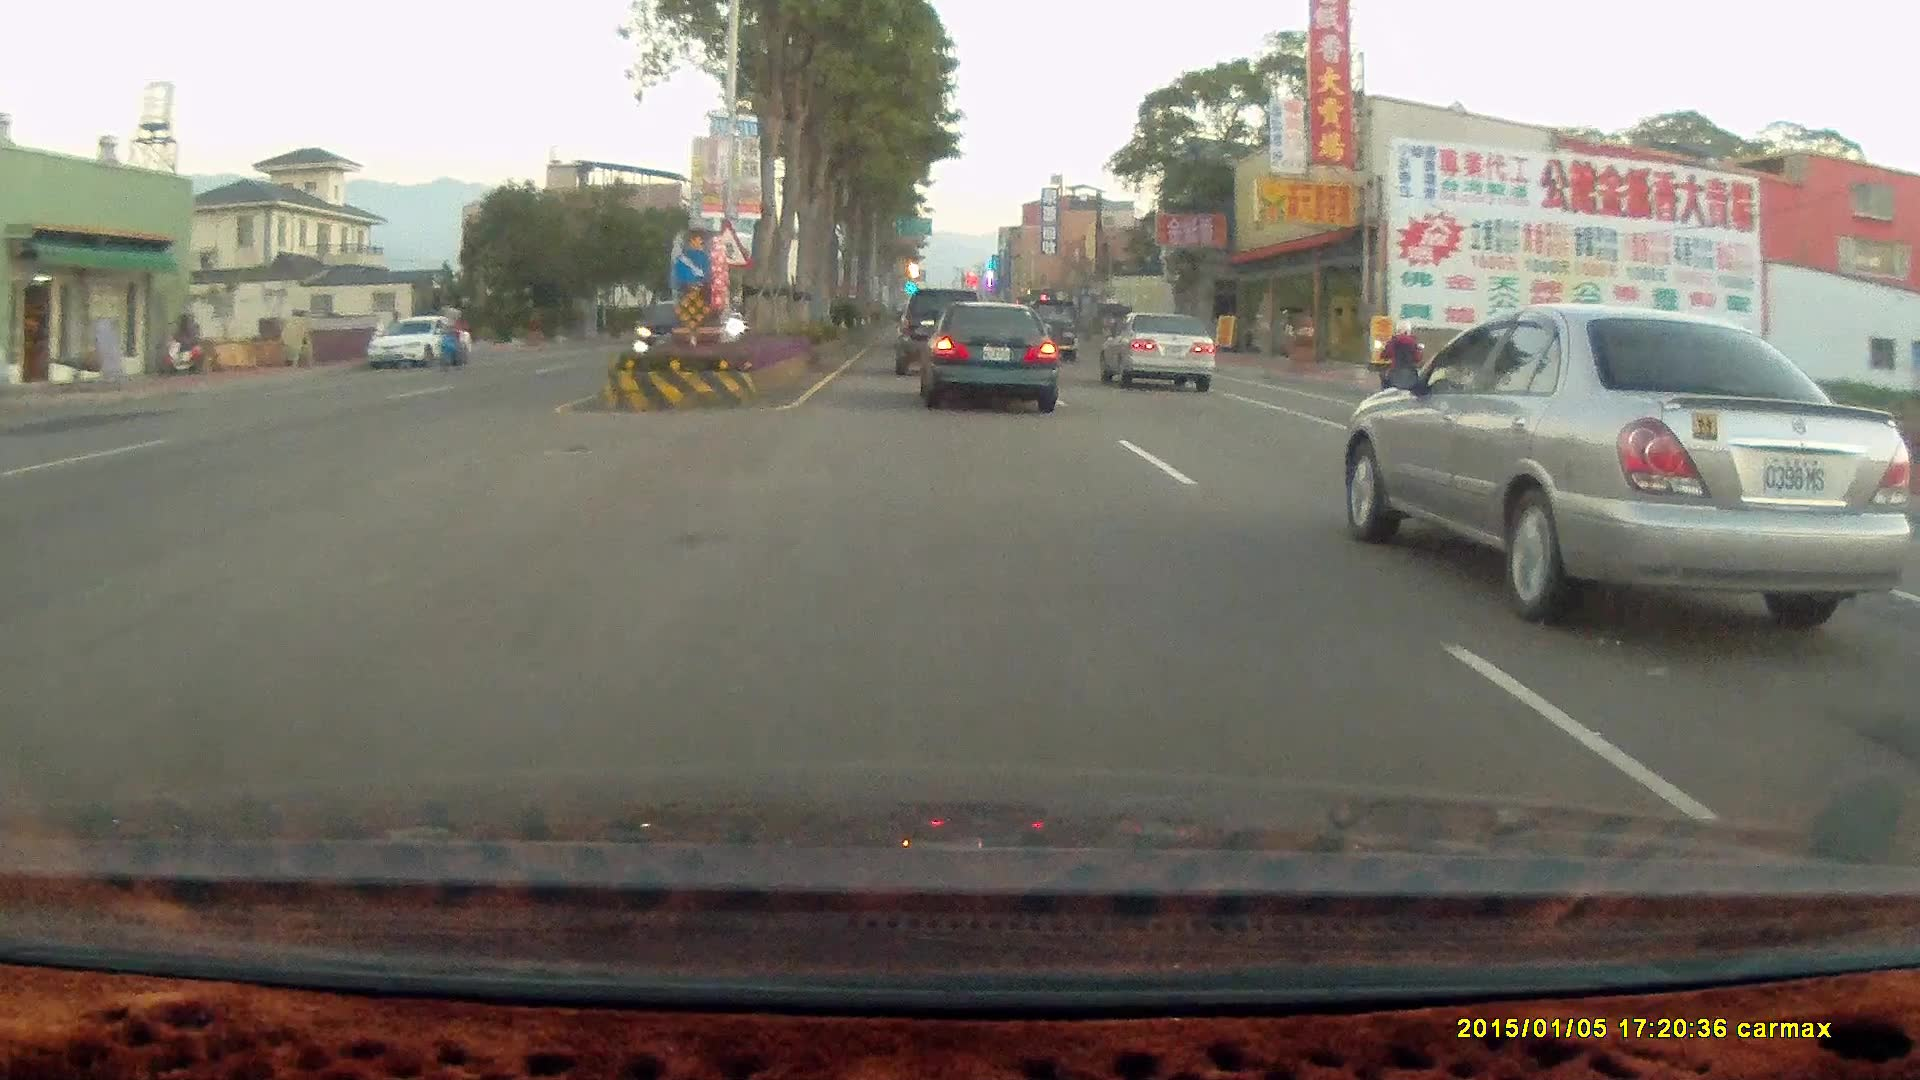rider: (1367, 310, 1439, 419), (1368, 311, 1419, 417), (432, 299, 468, 367)
vehicle: (1351, 288, 1920, 620), (918, 300, 1061, 419), (914, 298, 1058, 411), (1097, 311, 1219, 395), (1094, 309, 1215, 392), (892, 286, 989, 378), (893, 282, 982, 370), (363, 314, 465, 371), (635, 299, 723, 360), (635, 300, 721, 361), (1014, 296, 1079, 362)
